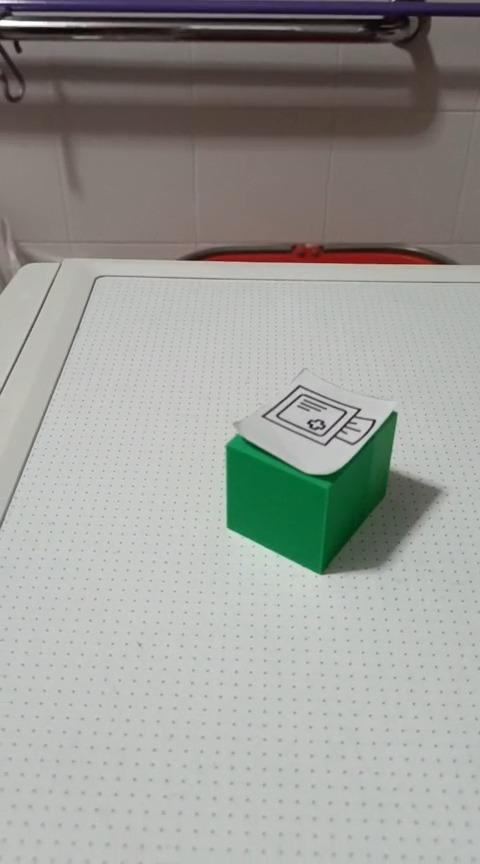Gauze: (224, 366, 398, 574)
